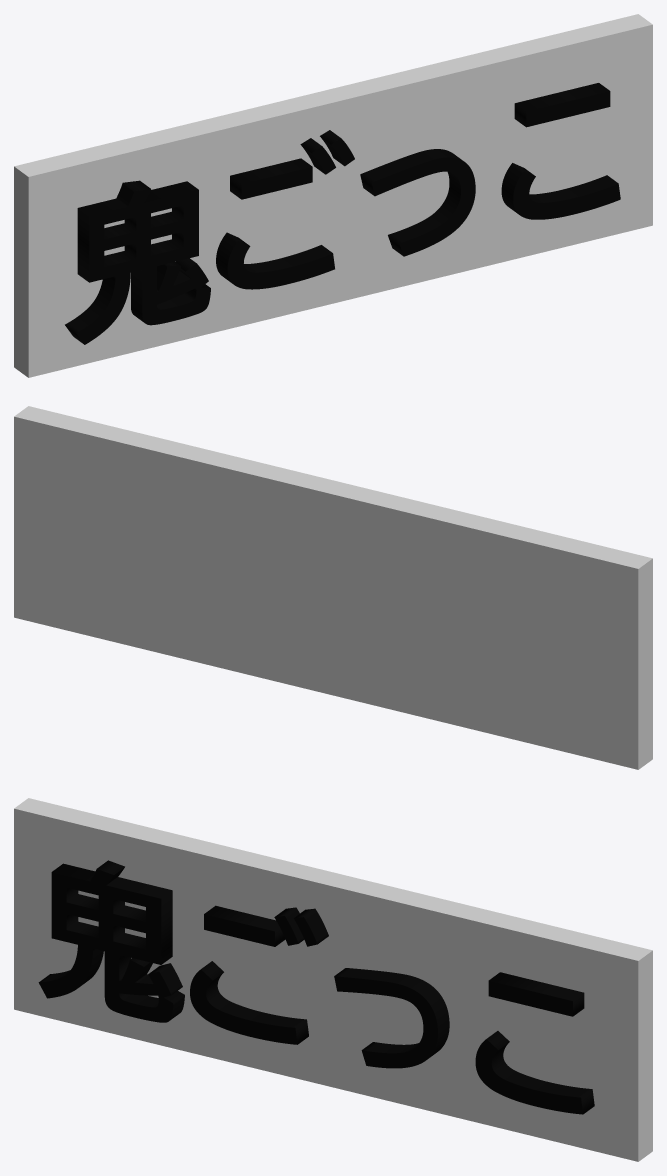
File: GS0_OnigoKko.fbx
The picture shows the model from 3 angles, top to bottom: view 1: azimuth 30°, elevation 25°; view 2: azimuth 150°, elevation 25°; view 3: azimuth 330°, elevation 25°; orthographic projection.
Visible parts, largest first — view 1: 立方体, テキスト; view 2: 立方体; view 3: 立方体, テキスト.
Part boxes in pixels (left/top/right/bottom): 立方体: left=14, top=14, right=652, bottom=377; テキスト: left=65, top=83, right=620, bottom=344; 立方体: left=14, top=406, right=652, bottom=769; 立方体: left=14, top=798, right=652, bottom=1161; テキスト: left=38, top=860, right=594, bottom=1114.
Bounding box in the file's own units: 443 × 136 × 32.01.
Materials: 2 (1 with a texture image).
